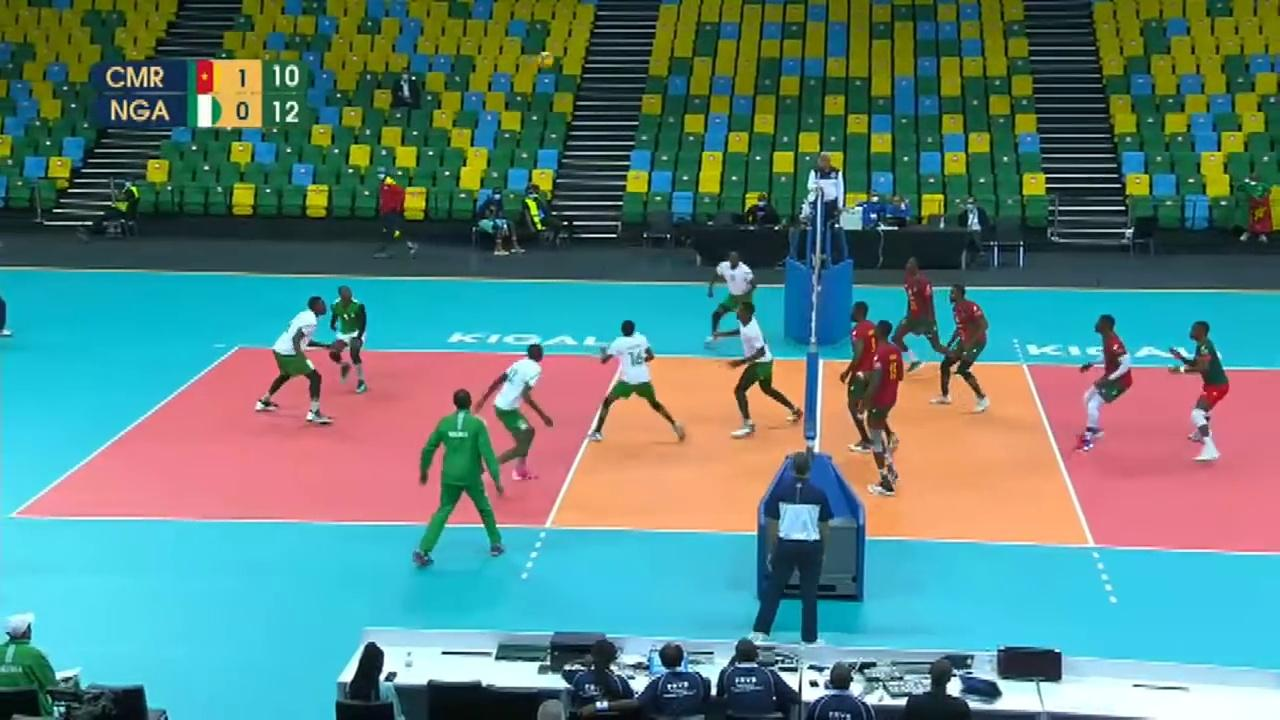player: (583, 322, 684, 440), (710, 299, 798, 432), (258, 296, 338, 421), (483, 345, 554, 481), (860, 319, 911, 504), (842, 296, 900, 452), (893, 254, 961, 378), (1077, 314, 1130, 446), (1183, 323, 1232, 455), (940, 287, 991, 411), (705, 249, 767, 349), (331, 285, 371, 393)
refree: (754, 450, 834, 643), (803, 154, 844, 249)
